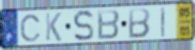B: (127, 7, 152, 40), (96, 8, 121, 41)
C: (19, 13, 42, 43)
I: (160, 7, 167, 39)
K: (44, 12, 63, 43)
S: (72, 9, 95, 43)
